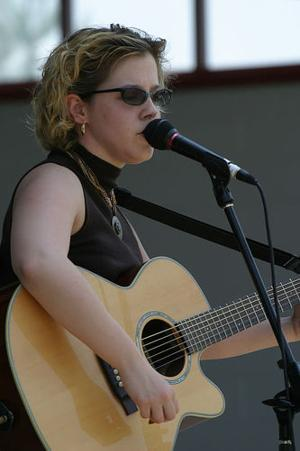person: (2, 27, 300, 451)
